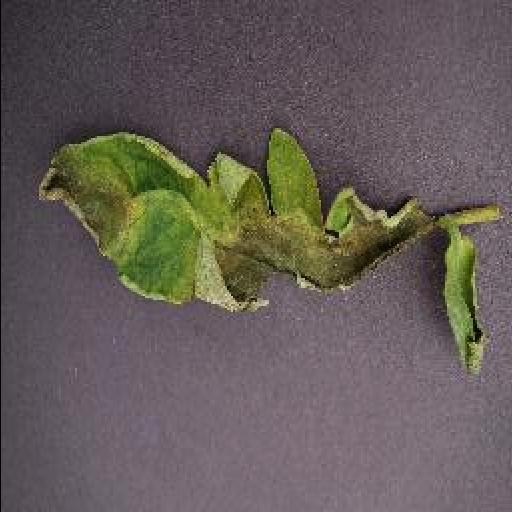disease_tomato: (33, 127, 439, 313), (436, 234, 494, 376)
